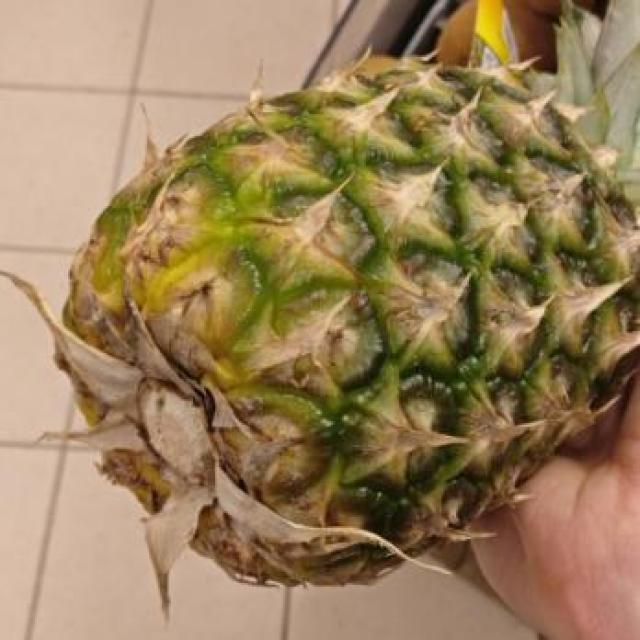pineapple: (6, 60, 640, 603)
